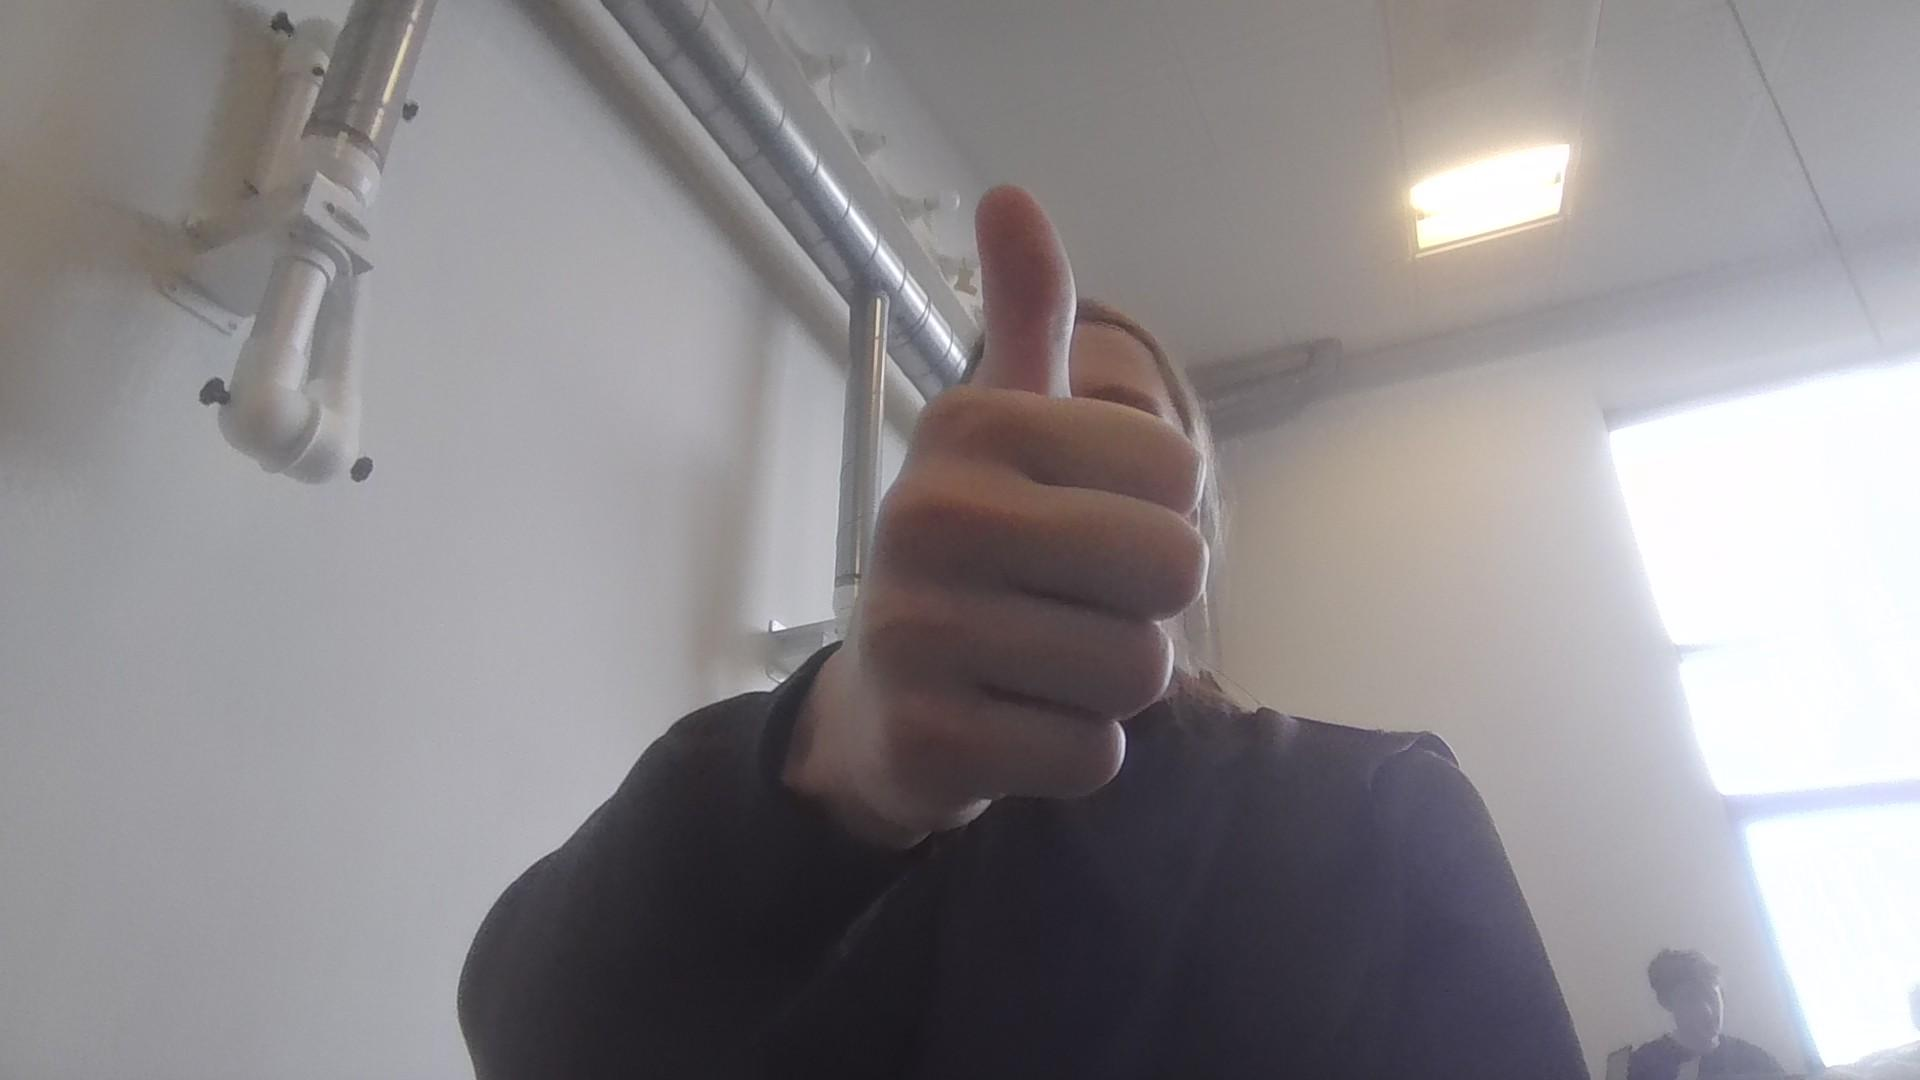thumbs up: (855, 189, 1213, 807)
